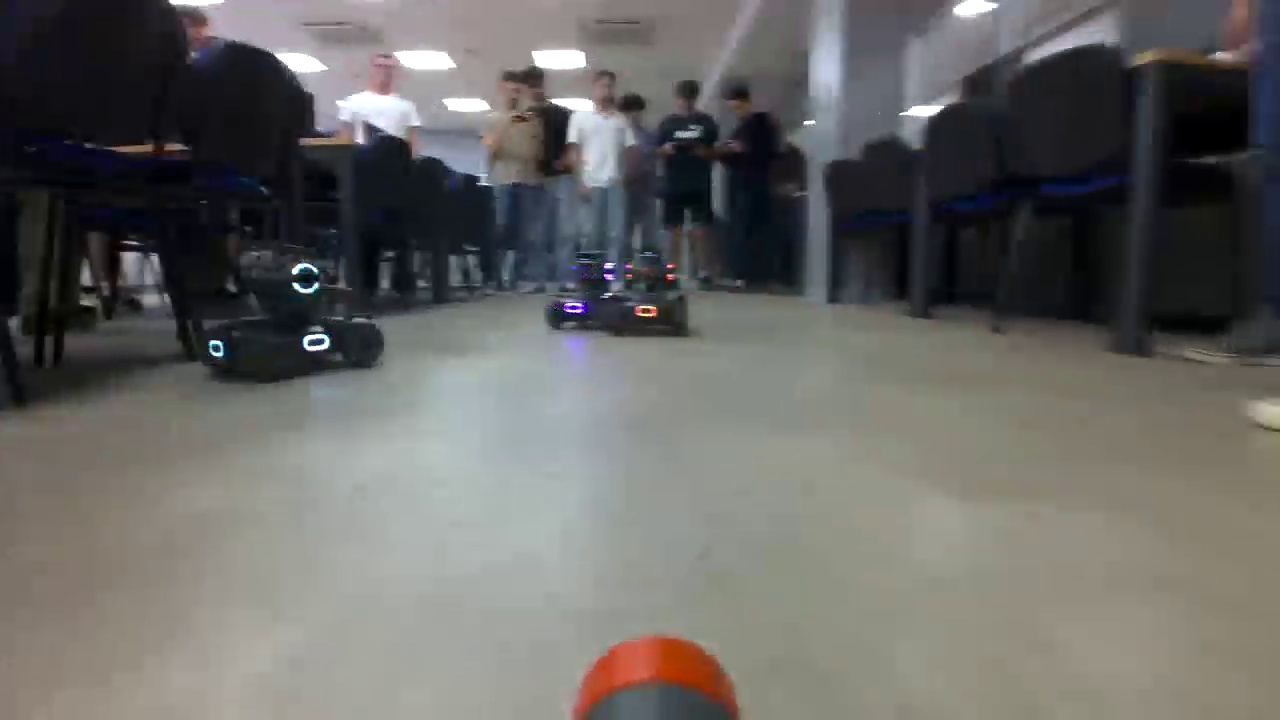robot: (198, 240, 385, 384), (606, 254, 688, 336), (545, 251, 619, 328)
